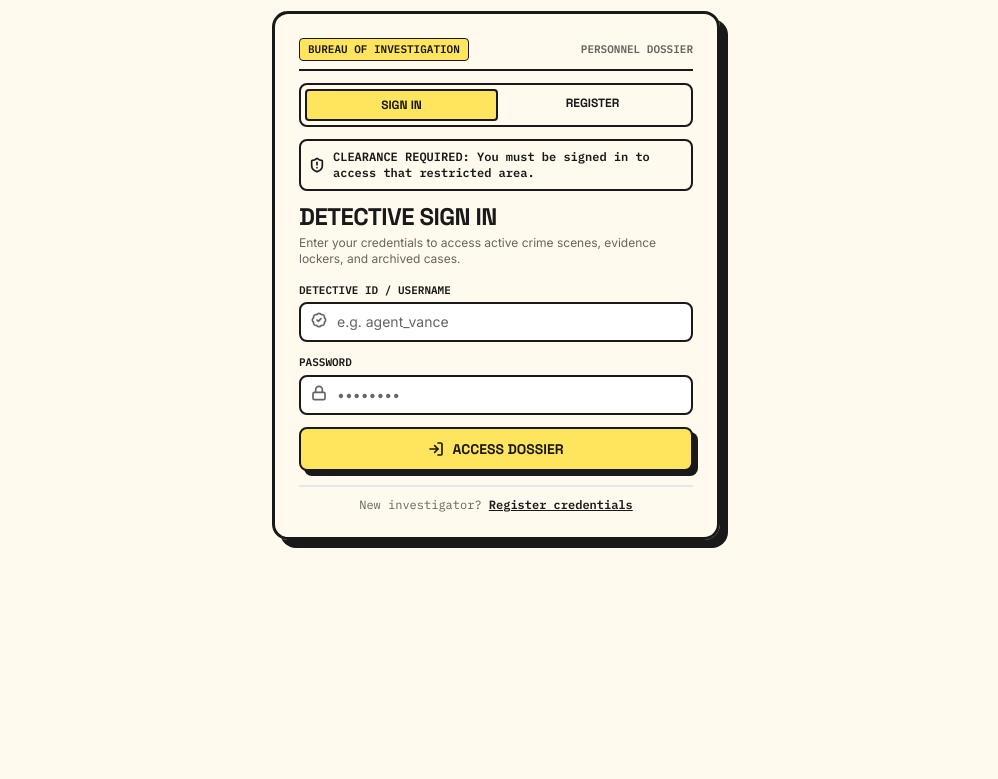
it: Route Guards & Authentication Enforcers › redirects user back to /create after signing in from guarded redirection
This screenshot has width=998, height=779.
expect the heading "DETECTIVE SIGN IN" is shown: met, box [299,200,497,232]
Type "sherlock_221b" into the field labelled "Detective ID / Username".
click(496, 322); type("sherlock_221b")  # box [299,302,693,342]
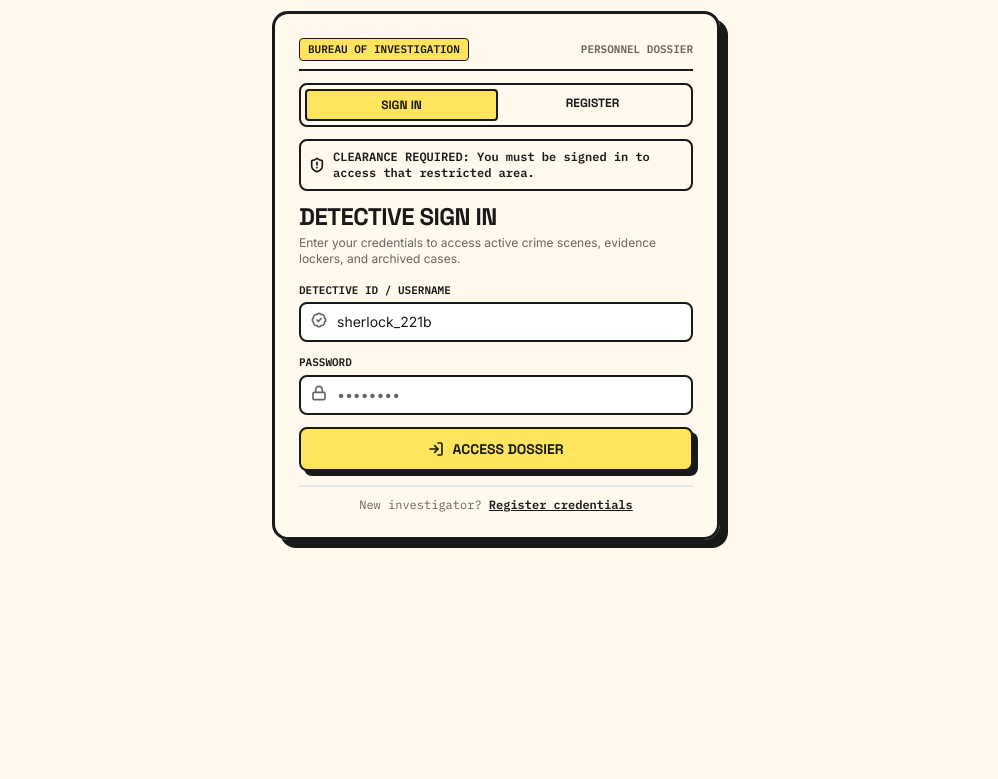
Type "BakerStPass123" into the password field labelled "Password".
click(496, 394); type("BakerStPass123")  # box [299,374,693,414]
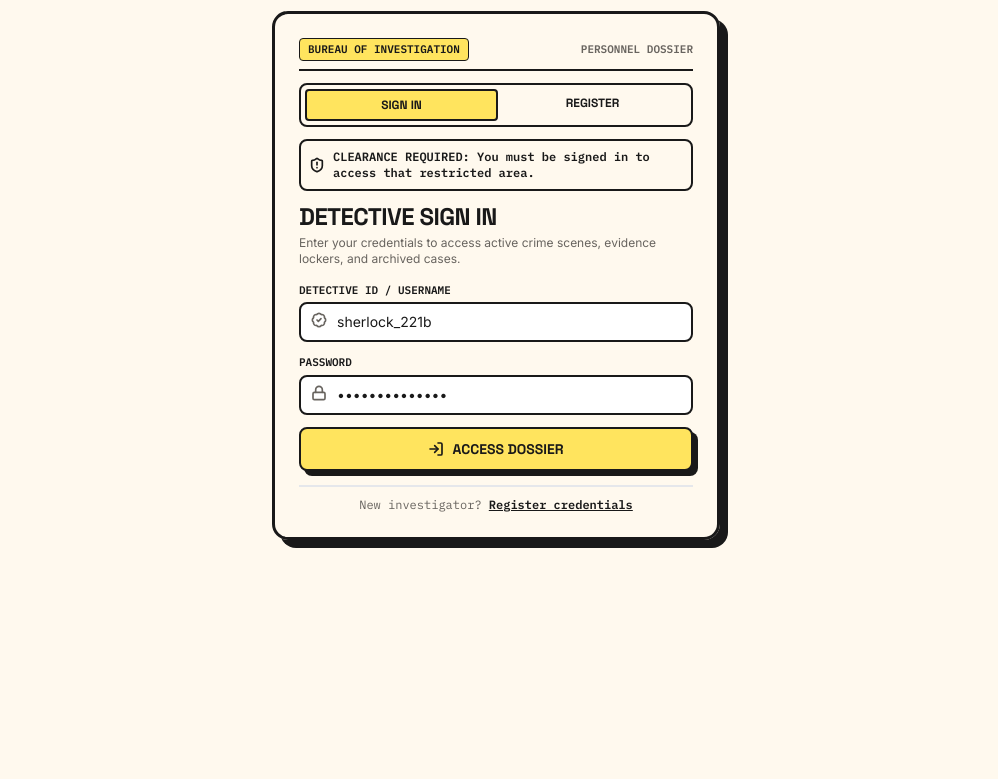
Click the button "ACCESS DOSSIER".
click(496, 448)  # box [299,426,693,470]
(page scrolled)
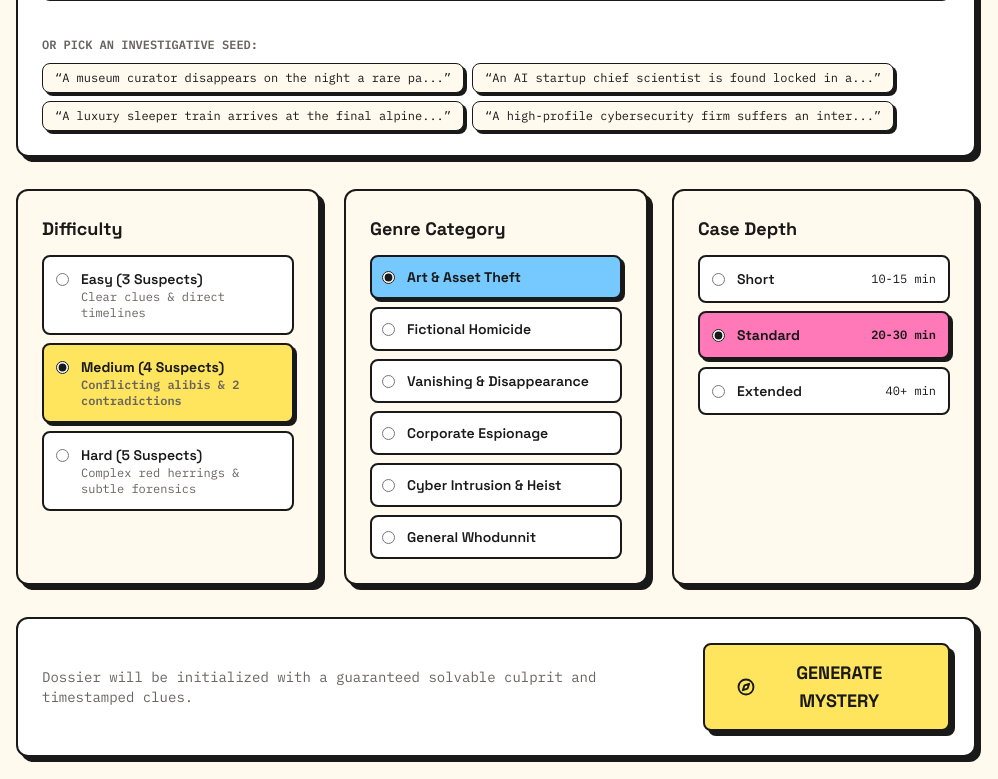
expect the button "GENERATE MYSTERY" is shown: met, box [702,643,950,731]
